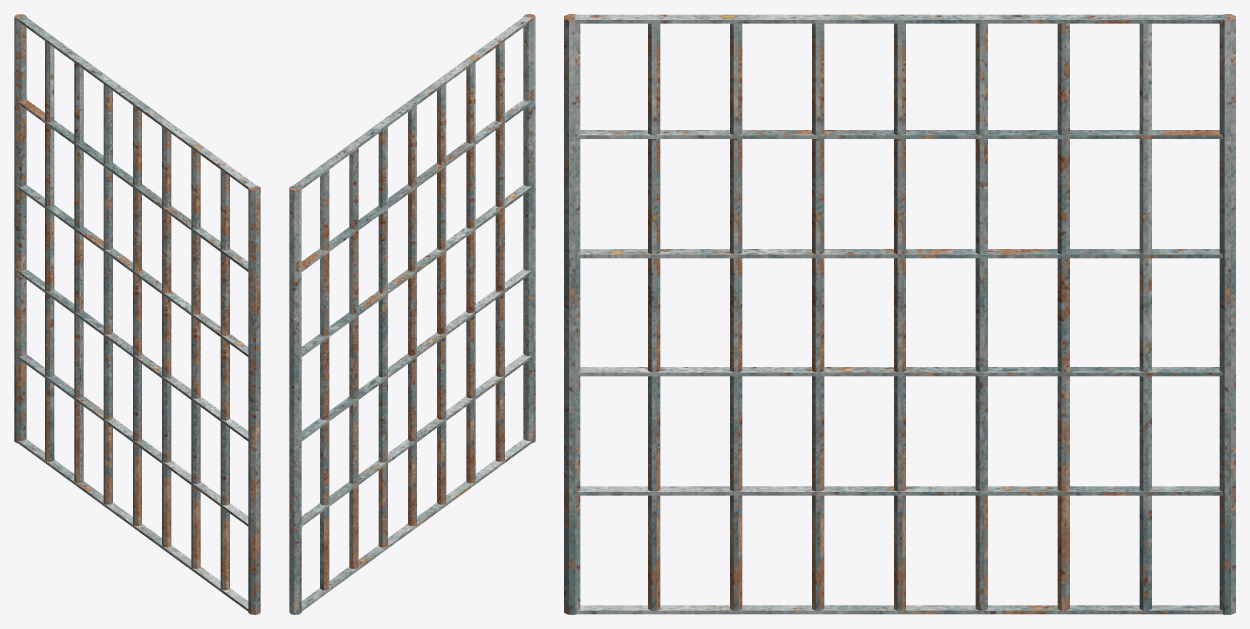
File: cell_bars_wide.glb
3 views of the same model, side by side, from view 1: azimuth 30°, elevation 25°; view 2: azimuth 150°, elevation 25°; view 3: azimuth 270°, elevation 25° (orthographic). The views are drawn at different scales.
Parts seen in each view (by area): view 1: cell_wall; view 2: cell_wall; view 3: cell_wall.
Boxes of the visible parts, bbox=[...] form: cell_wall: bbox=[14, 14, 260, 614]; cell_wall: bbox=[289, 14, 535, 614]; cell_wall: bbox=[564, 14, 1235, 614].
Size of the model in its own units: 0.1 by 4 by 4.1.
1 material, 1 textured.
